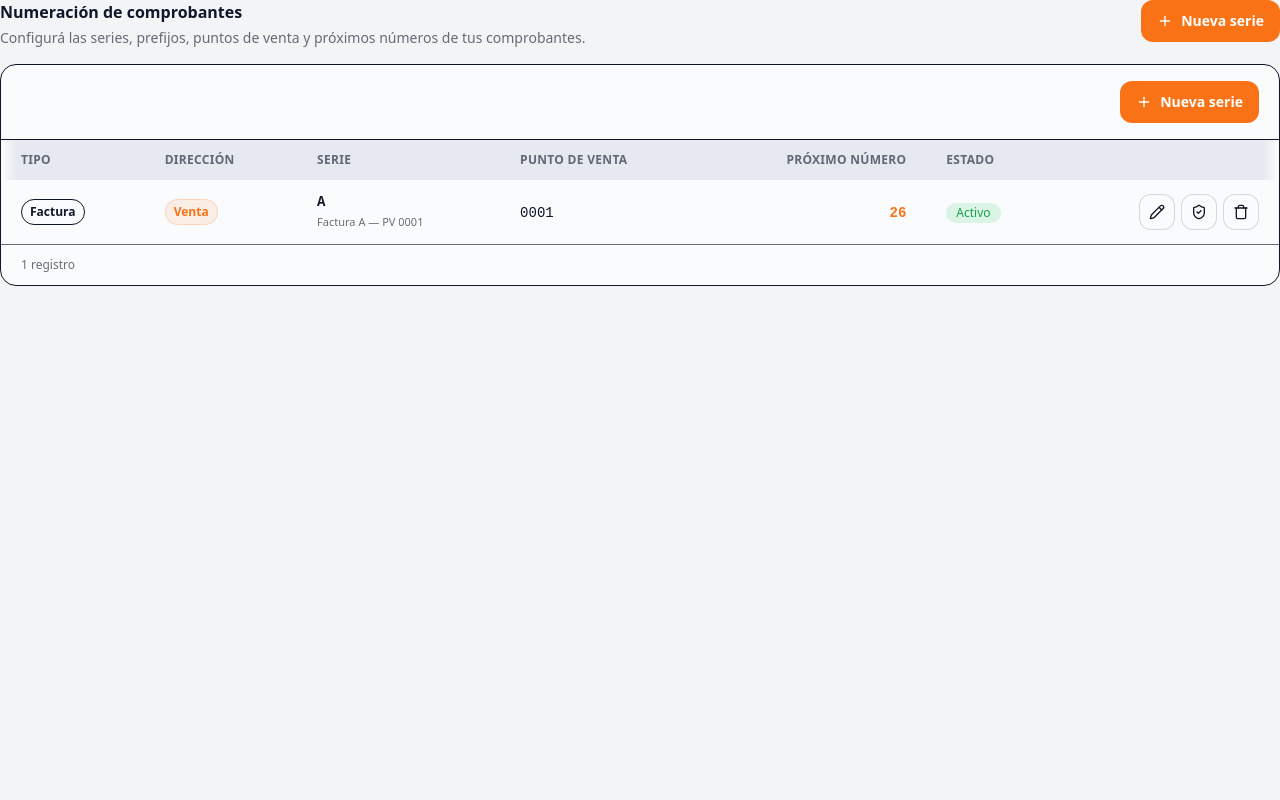
Test: NumeracionAdmin — editar serie › type y direction son badges readonly en edición (NO combos editables)
The width and height of the screenshot is (1280, 800).
Expected: the text "Factura" is shown, [21, 199, 85, 225]
Click en editar de la primera fila.
Step 1. Click the button titled "editar" → (1157, 212), box [1139, 194, 1175, 230]
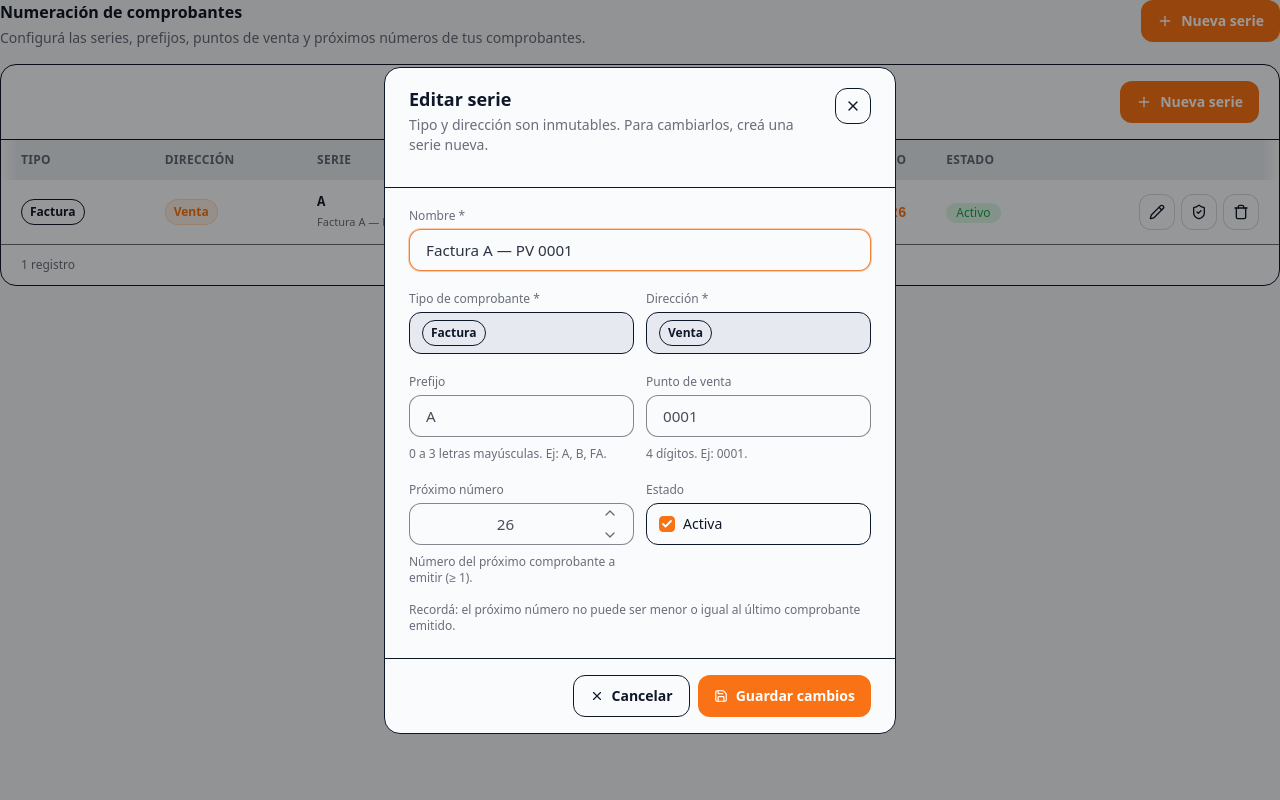
Now the heading "Editar serie" is shown, box [409, 87, 511, 111]
Now the element with test id "type-readonly" is shown, box [409, 311, 634, 353]
Now the element with test id "direction-readonly" is shown, box [646, 311, 871, 353]
